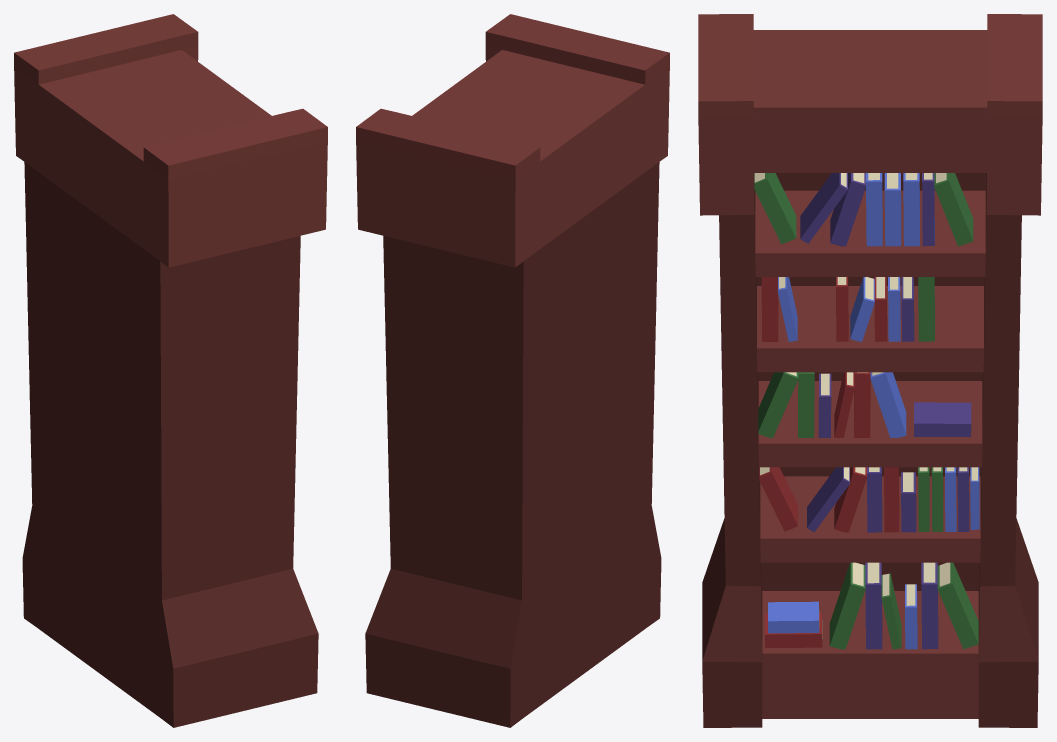
File: quaternius-furniture-bookcasebooks.glb
3 renders of one model, left to right at view 1: azimuth 30°, elevation 25°; view 2: azimuth 150°, elevation 25°; view 3: azimuth 270°, elevation 25°, orthographic. The views are drawn at different scales.
Parts seen in each view (by area): view 1: BookCaseBooks; view 2: BookCaseBooks; view 3: BookCaseBooks.
Boxes of the visible parts, box(x1,y1,x2,y2) form: BookCaseBooks: box(14, 14, 327, 727); BookCaseBooks: box(356, 14, 669, 727); BookCaseBooks: box(698, 14, 1042, 727).
Bounding box in the file's own units: 0.4519 × 1.53 × 0.7576.
1 material, 1 textured.
